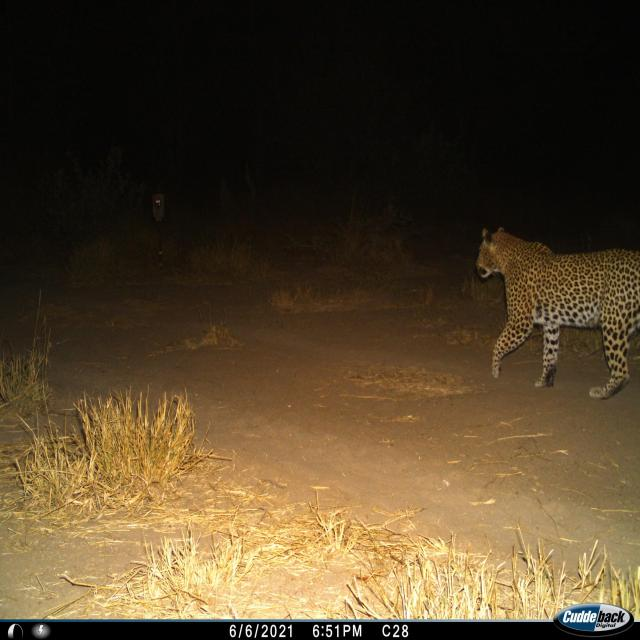Leopard: (474, 222, 640, 396)
